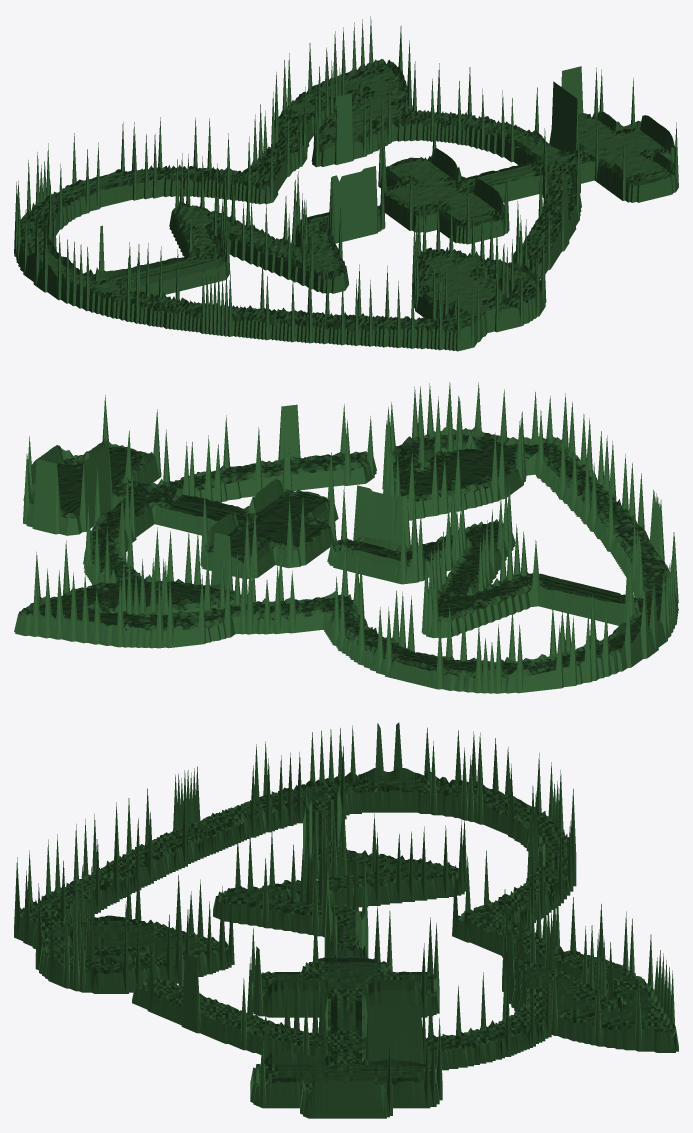
Rendered from icon.glb.
3 views of the same model, one above another, from view 1: azimuth 30°, elevation 25°; view 2: azimuth 150°, elevation 25°; view 3: azimuth 270°, elevation 25° (orthographic). The views are drawn at different scales.
Visible parts, largest first — view 1: Node1; view 2: Node1; view 3: Node1.
Boxes of the visible parts, bbox=[...] form: Node1: bbox=[14, 16, 678, 351]; Node1: bbox=[14, 382, 678, 693]; Node1: bbox=[14, 722, 678, 1118].
Bounding box in the file's own units: 94.64 × 10 × 81.99.
